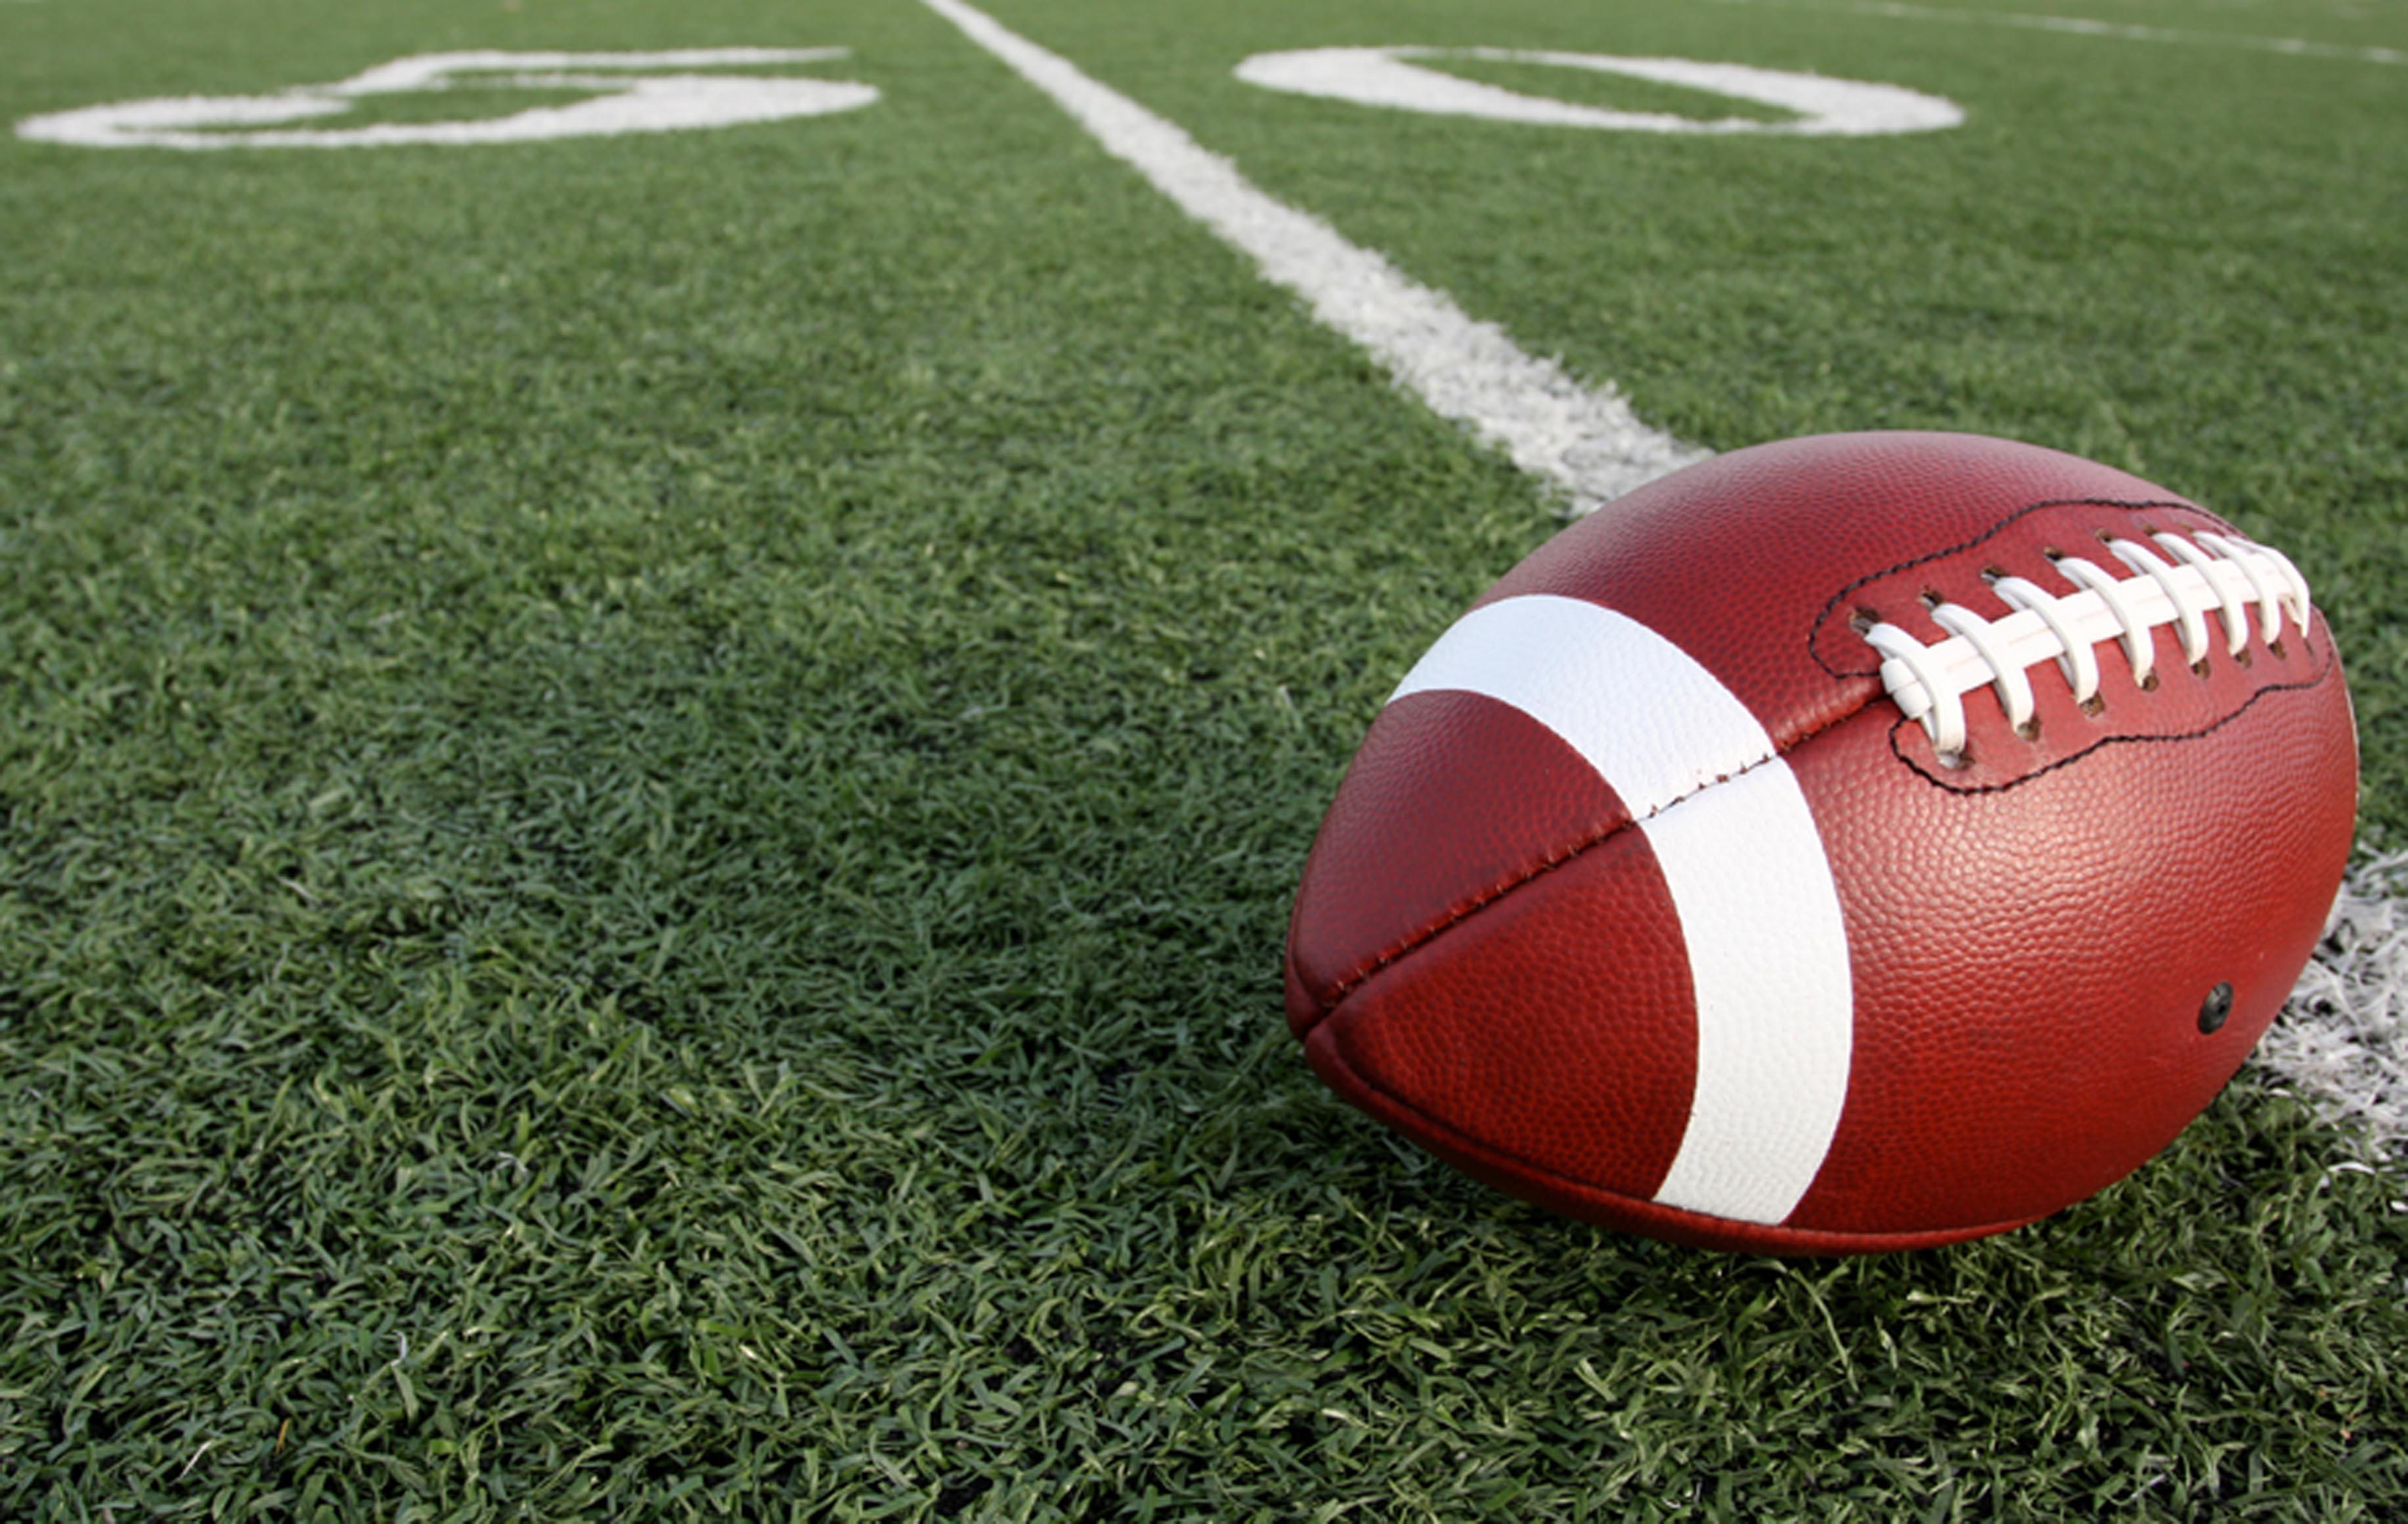Sports-Ball: (1283, 432, 2355, 1250)
